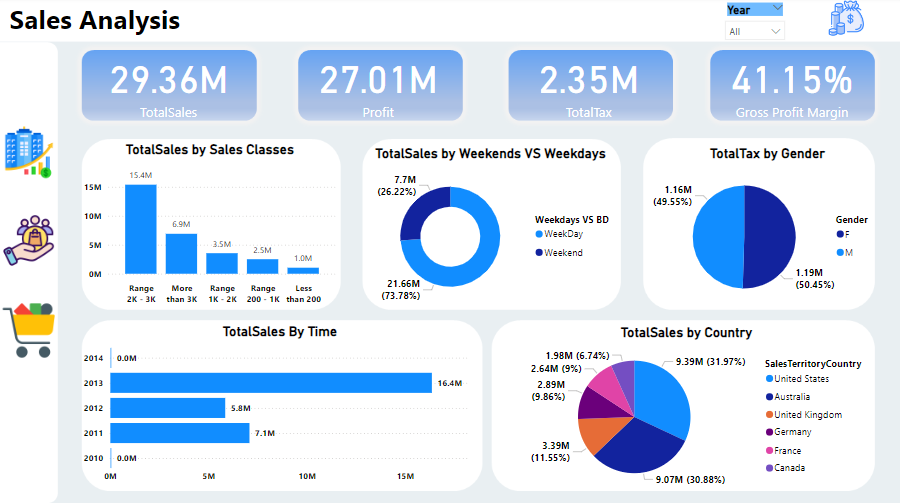

The page's visual inventory and layout, read from the dashboard file:
{"tool":"powerbi","page":{"name":"Sales","canvas":[1280,720],"ordinal":1},"visuals":[{"type":"textbox","box":[11.4,0,281.4,60],"z":0},{"type":"card","fields":{"Values":["fact_InternetSales.TotalSales"]},"box":[127.1,70,228.6,107.1],"z":1000},{"type":"card","fields":{"Values":["fact_InternetSales.TotalTax"]},"box":[722.9,48.6,228.6,150],"z":2000},{"type":"card","fields":{"Values":["dim_Customer.Profit"]},"box":[424.3,48.6,230,150],"z":3000},{"type":"card","fields":{"Values":["fact_InternetSales.Gross Profit Margin"]},"box":[1010,48.6,230,150],"z":4000},{"type":"barChart","title":"TotalSales By Time","fields":{"Category":["Calender.Date.Variation.Date Hierarchy.Year","Calender.Date.Variation.Date Hierarchy.Quarter","Calender.Date.Variation.Date Hierarchy.Month","Calender.Date.Variation.Date Hierarchy.Day"],"Y":["Sum(fact_InternetSales.SalesAmount)"]},"box":[115.9,462.3,566.7,234.8],"z":5000},{"type":"pieChart","title":"TotalSales by Country","fields":{"Category":["dim_SalesRegion.SalesTerritoryCountry"],"Y":["fact_InternetSales.TotalSales"]},"box":[711.4,462.9,528.6,241.4],"z":6000},{"type":"columnChart","fields":{"Category":["fact_InternetSales.Sales Classes"],"Y":["fact_InternetSales.TotalSales"]},"box":[115.9,204.3,368.1,239.1],"z":7000},{"type":"donutChart","title":"TotalSales by Weekends VS Weekdays","fields":{"Y":["fact_InternetSales.TotalSales"],"Category":["Calender.Weekdays VS BD"]},"box":[515.9,209.8,364.3,238.1],"z":8000},{"type":"pieChart","fields":{"Category":["dim_Customer.Gender"],"Y":["fact_InternetSales.TotalTax"]},"box":[922.9,210,335.7,238.6],"z":9000},{"type":"image","box":[0,177.1,87.1,85.7],"z":10000},{"type":"image","box":[1125.7,0,154.3,60],"z":11000},{"type":"image","box":[0,300,87.1,88.6],"z":12000},{"type":"image","box":[0,425.7,87.1,94.3],"z":13000},{"type":"slicer","fields":{"Values":["Calender.Year"]},"box":[1020.5,2.8,104.9,66.6],"z":14000}]}

Visuals, with their boxes in screenshot pixels (x1, y1, x2, y2), scaled from the page's 1280x720 canvas onto the 900x504 screenshot:
textbox: locate(8, 0, 206, 42)
card - fact_InternetSales.TotalSales: locate(89, 49, 250, 124)
card - fact_InternetSales.TotalTax: locate(508, 34, 669, 139)
card - dim_Customer.Profit: locate(298, 34, 460, 139)
card - fact_InternetSales.Gross Profit Margin: locate(710, 34, 872, 139)
"TotalSales By Time" barChart: locate(81, 324, 480, 488)
"TotalSales by Country" pieChart: locate(500, 324, 872, 493)
columnChart - fact_InternetSales.Sales Classes x fact_InternetSales.TotalSales: locate(81, 143, 340, 310)
"TotalSales by Weekends VS Weekdays" donutChart: locate(363, 147, 619, 314)
pieChart - dim_Customer.Gender x fact_InternetSales.TotalTax: locate(649, 147, 885, 314)
image: locate(0, 124, 61, 184)
image: locate(792, 0, 899, 42)
image: locate(0, 210, 61, 272)
image: locate(0, 298, 61, 364)
slicer - Calender.Year: locate(718, 2, 791, 49)
